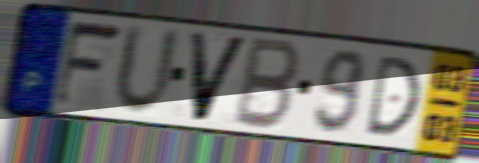9: (311, 47, 369, 137)
B: (230, 33, 305, 134)
D: (362, 53, 423, 138)
F: (51, 18, 126, 112)
U: (110, 20, 184, 120)
V: (186, 28, 253, 125)
